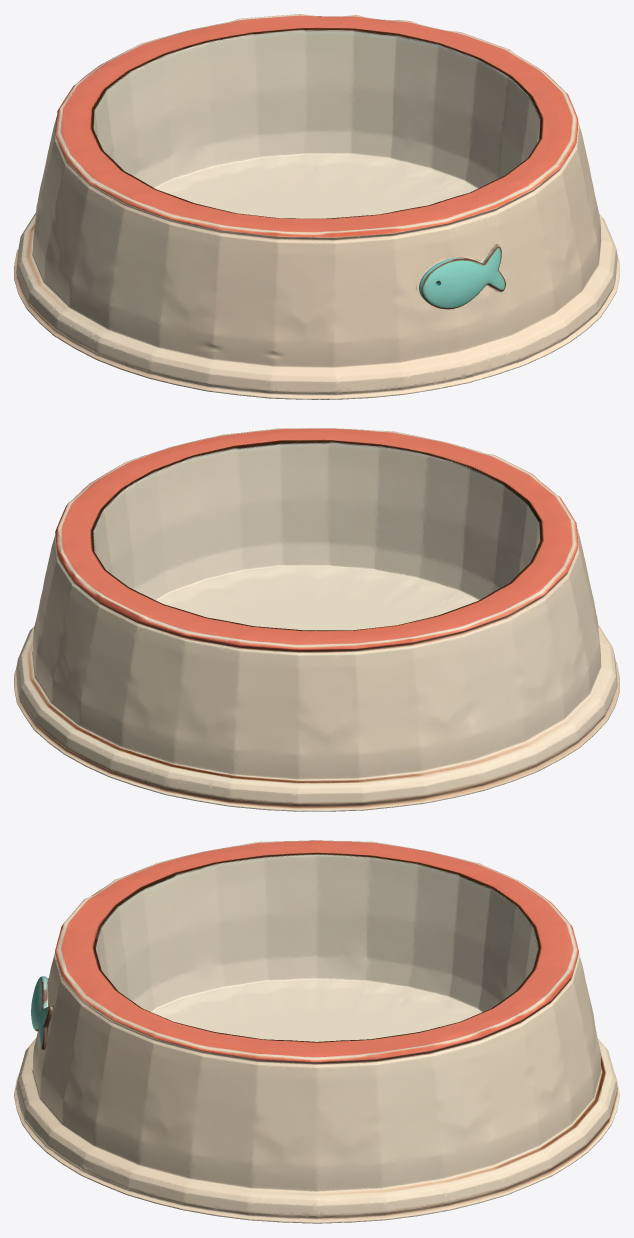
Rendered from cat-food-bowl-empty-meshy6-web-v1.glb.
3 views of the same model, one above another, from view 1: azimuth 30°, elevation 25°; view 2: azimuth 150°, elevation 25°; view 3: azimuth 270°, elevation 25° (orthographic).
Bounding box in the file's own units: 1.9 × 0.513 × 1.9.
Materials: 1 (1 with a texture image).
